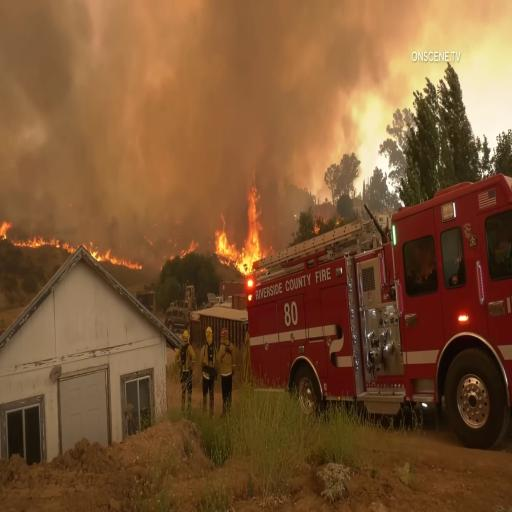fire: (216, 187, 278, 282), (0, 218, 72, 257), (82, 249, 147, 272)
